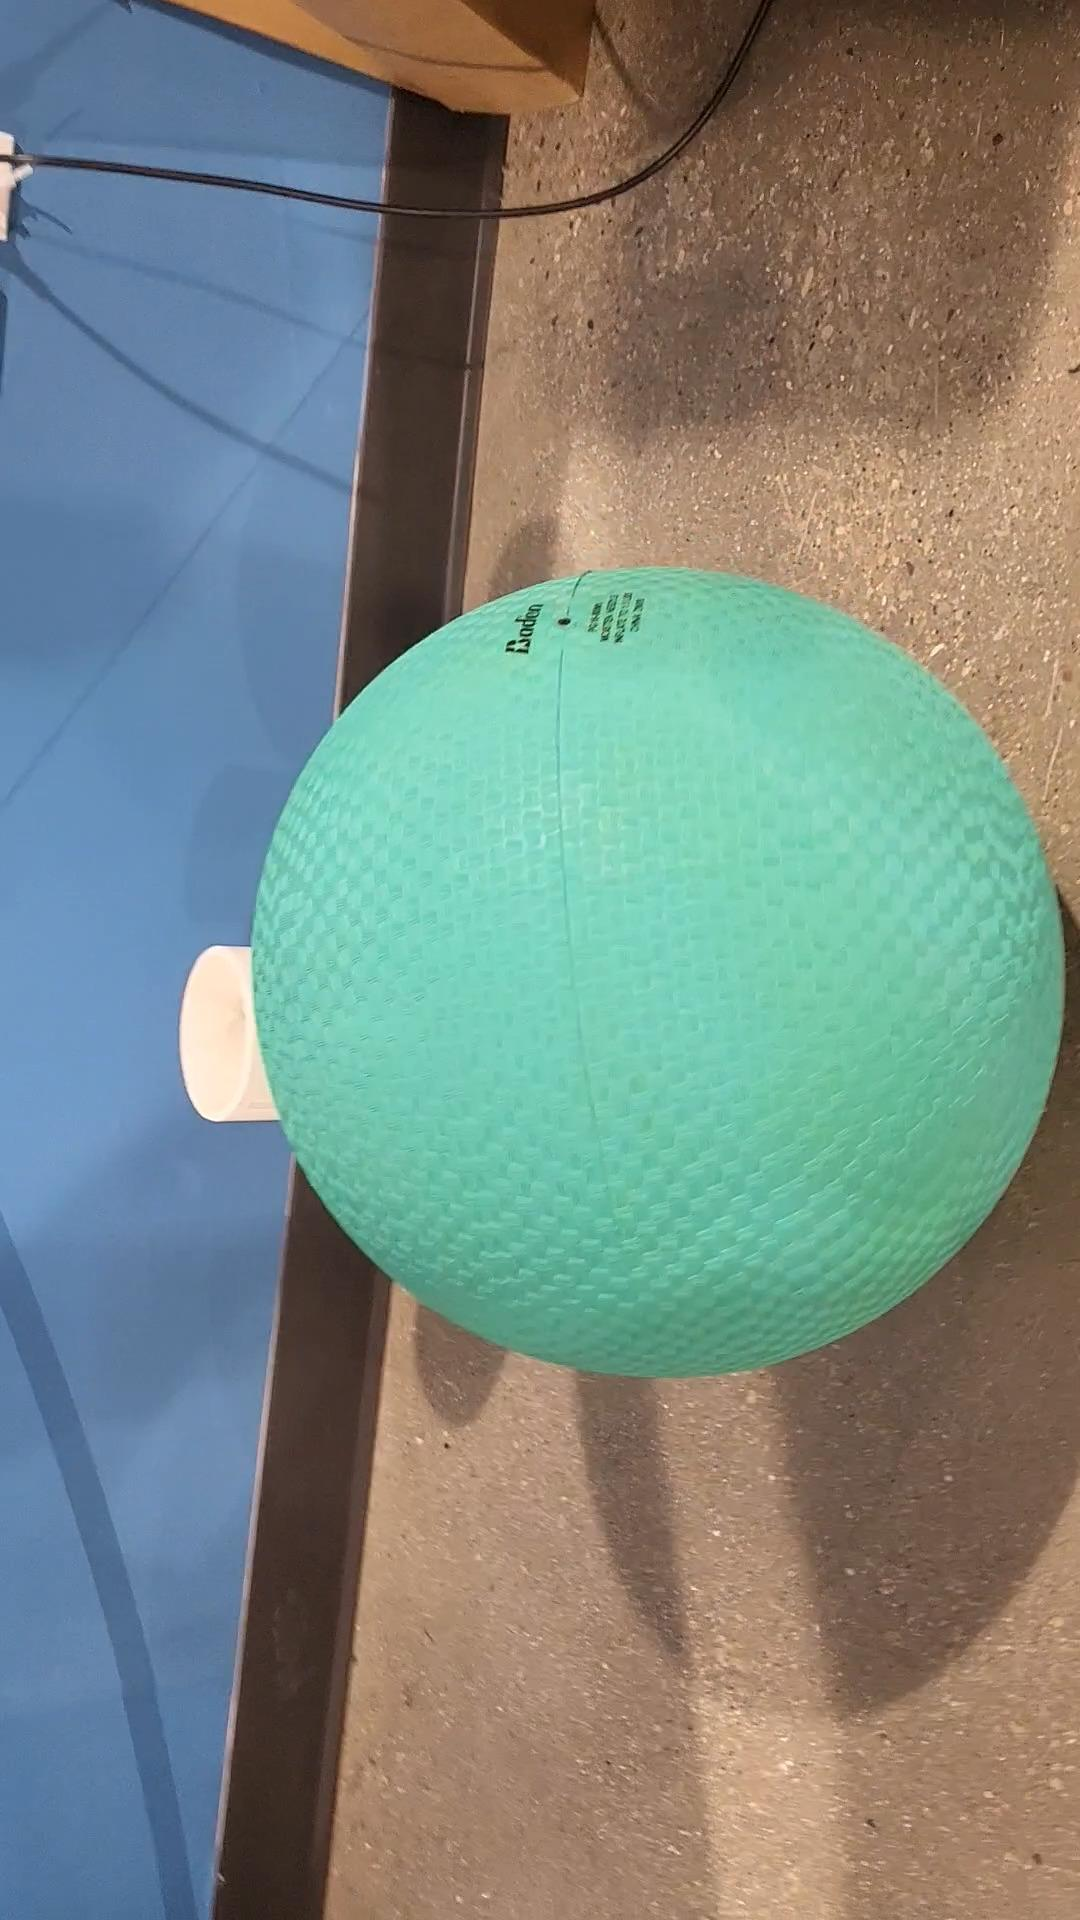algae: (251, 560, 1080, 1370)
coral: (182, 932, 302, 1135)
